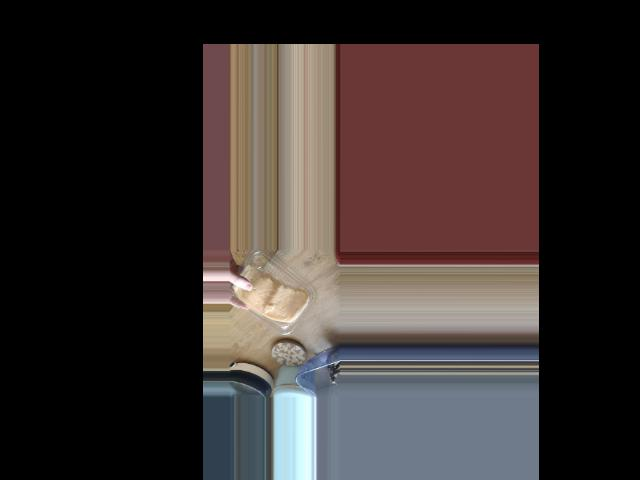cheese: (236, 252, 326, 342)
